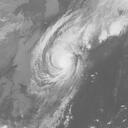cyclone: (30, 29, 87, 94)
